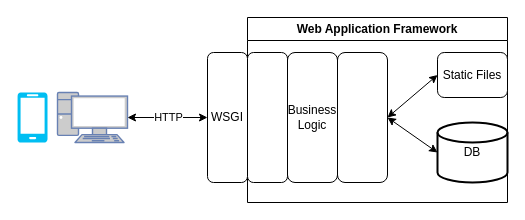
Some shapes in this 525 by 220 pixel diagram are drawn without their labels. The box of each missing label's shape, as (x1, y1, x2, y2) in pixels:
DB & Template: (336, 52, 388, 182)
Router: (246, 52, 288, 182)
